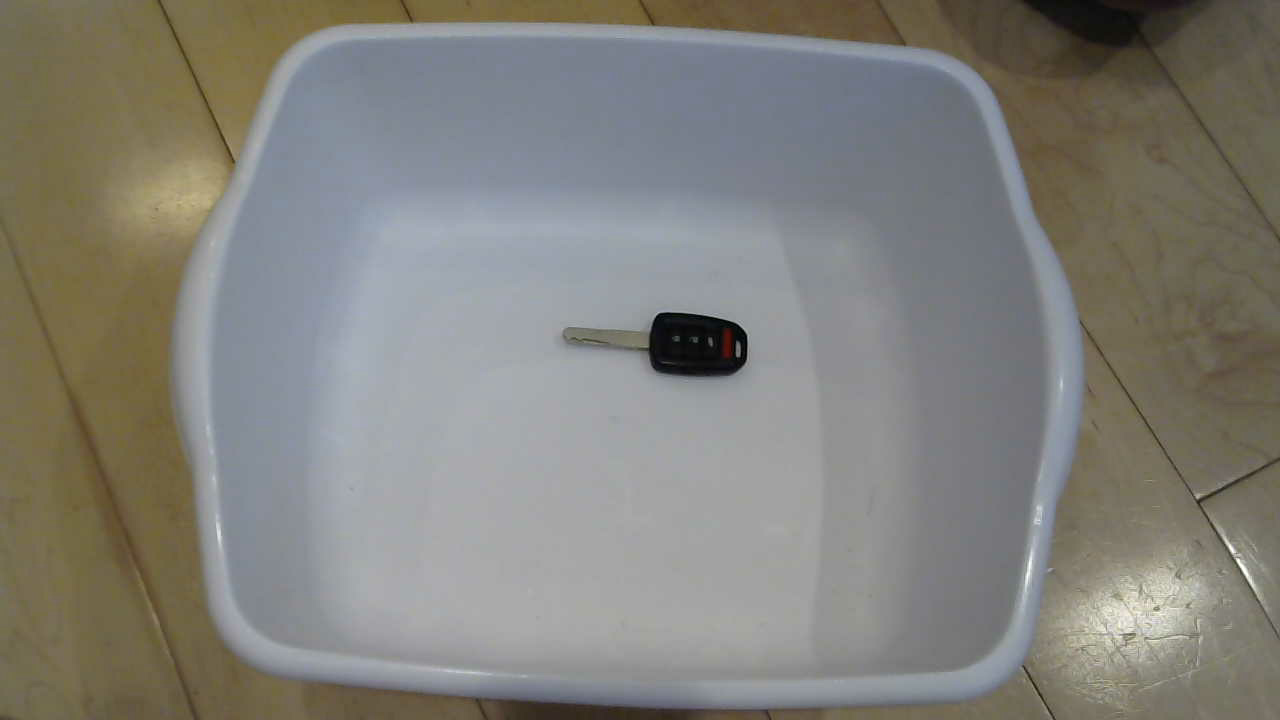key: (557, 297, 783, 398)
